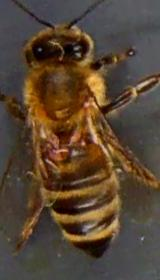varroa_mite: (41, 139, 78, 166)
